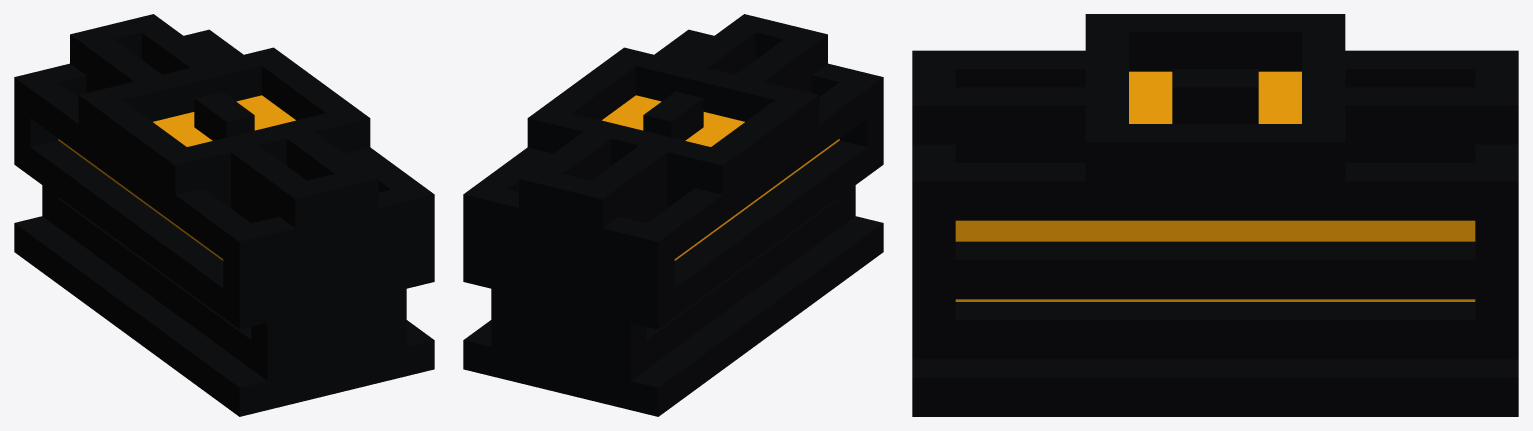
Rendered from CommandCenterSmall1.FBX.
3 views of the same model, side by side, from view 1: azimuth 30°, elevation 25°; view 2: azimuth 150°, elevation 25°; view 3: azimuth 270°, elevation 25° (orthographic). The views are drawn at different scales.
Visible parts, largest first — view 1: CommandCenterSmall1; view 2: CommandCenterSmall1; view 3: CommandCenterSmall1.
Part boxes in pixels (x1,y1,x2,y2): CommandCenterSmall1: (14,14,434,416); CommandCenterSmall1: (463,14,883,416); CommandCenterSmall1: (912,14,1518,416).
Bounding box in the file's own units: 7 × 14 × 7.
